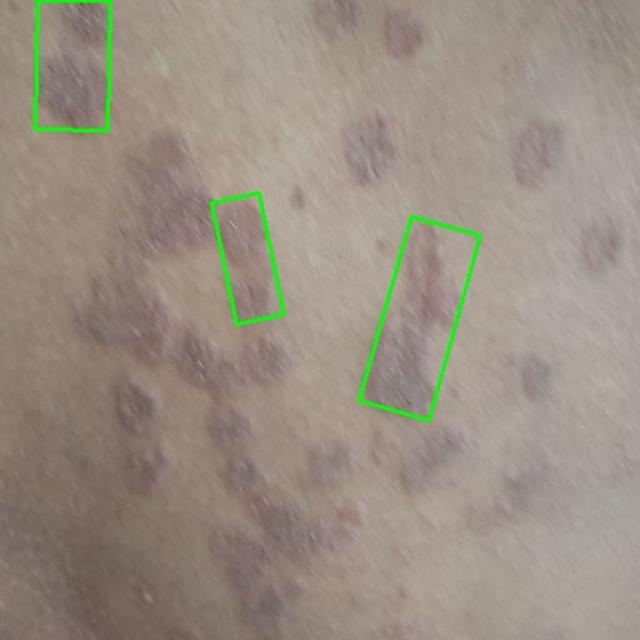Tinea Corporis: (360, 216, 481, 421), (36, 0, 110, 130), (211, 193, 284, 324)
